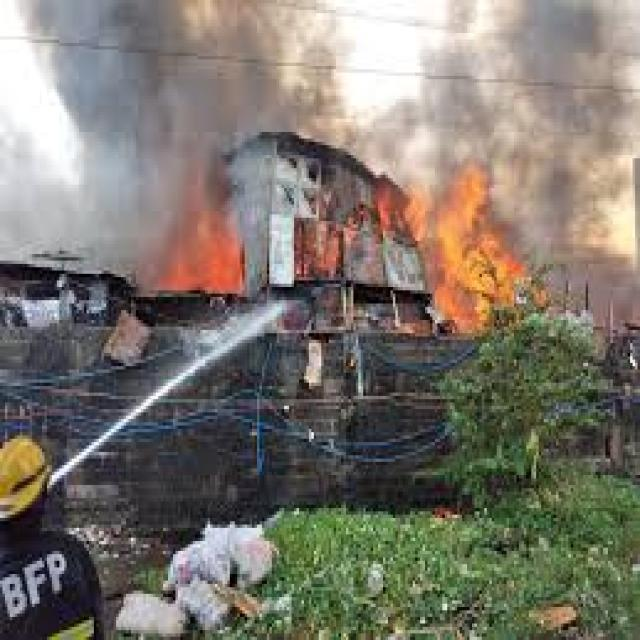Fire: (420, 187, 518, 326), (170, 215, 240, 293)
Smoke: (39, 10, 228, 212), (417, 10, 640, 178), (0, 150, 162, 270), (232, 0, 334, 129), (525, 185, 640, 287)
